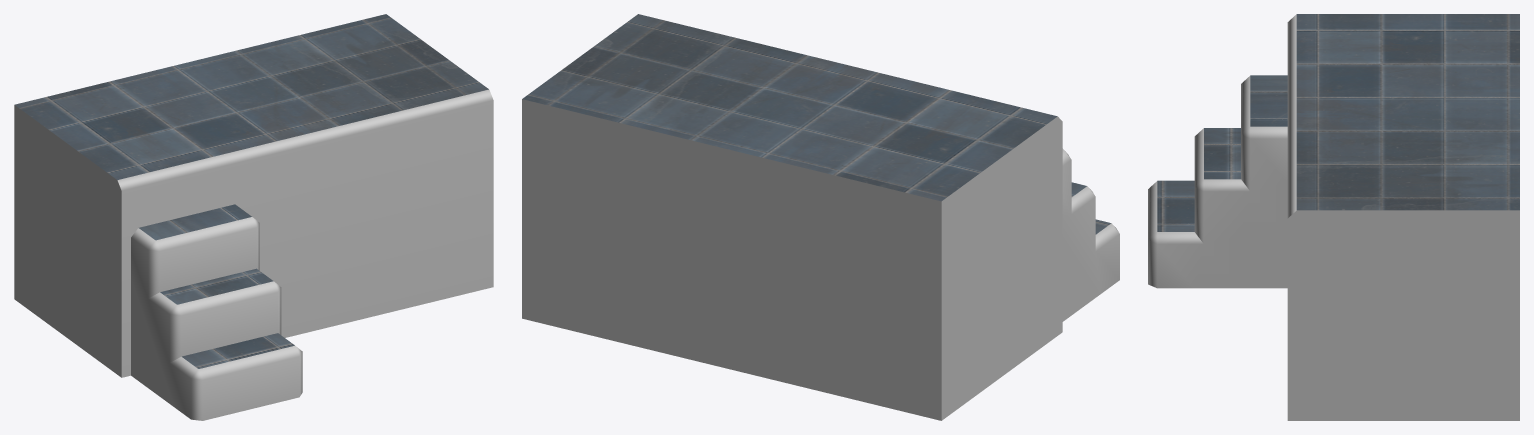
File: Stair_B.fbx
The picture shows the model from 3 angles, left to right: view 1: azimuth 30°, elevation 25°; view 2: azimuth 150°, elevation 25°; view 3: azimuth 270°, elevation 25°; orthographic projection. The views are drawn at different scales.
Parts seen in each view (by area): view 1: Stair_B; view 2: Stair_B; view 3: Stair_B.
Boxes of the visible parts, bbox=[...] form: Stair_B: bbox=[14, 14, 493, 420]; Stair_B: bbox=[522, 14, 1119, 420]; Stair_B: bbox=[1148, 14, 1519, 420].
Size of the model in its own units: 200 by 100 by 160.
